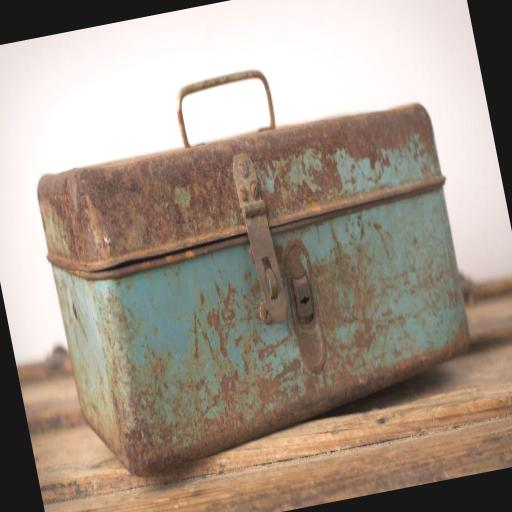corrosion: (53, 201, 490, 486), (20, 34, 448, 284)
